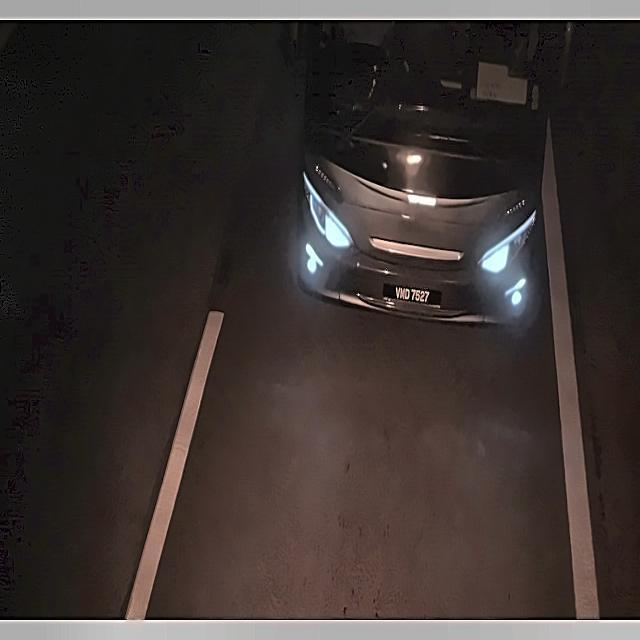car: (386, 275, 434, 310)
